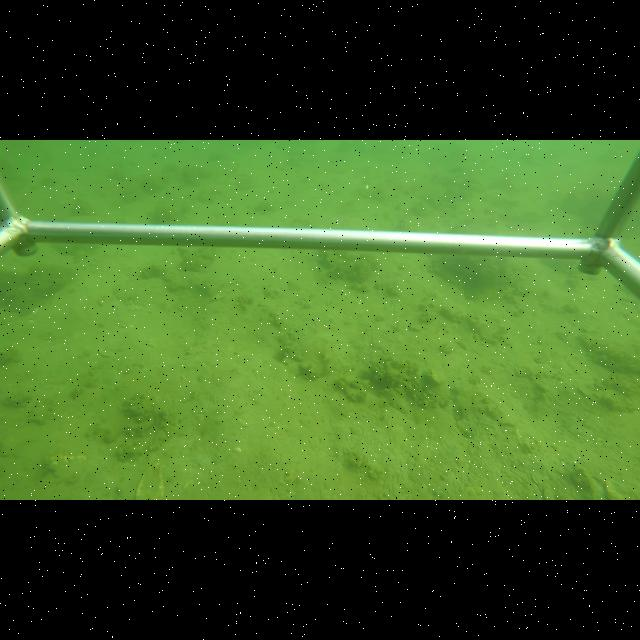Oyster-Closed: (455, 419, 476, 438)
